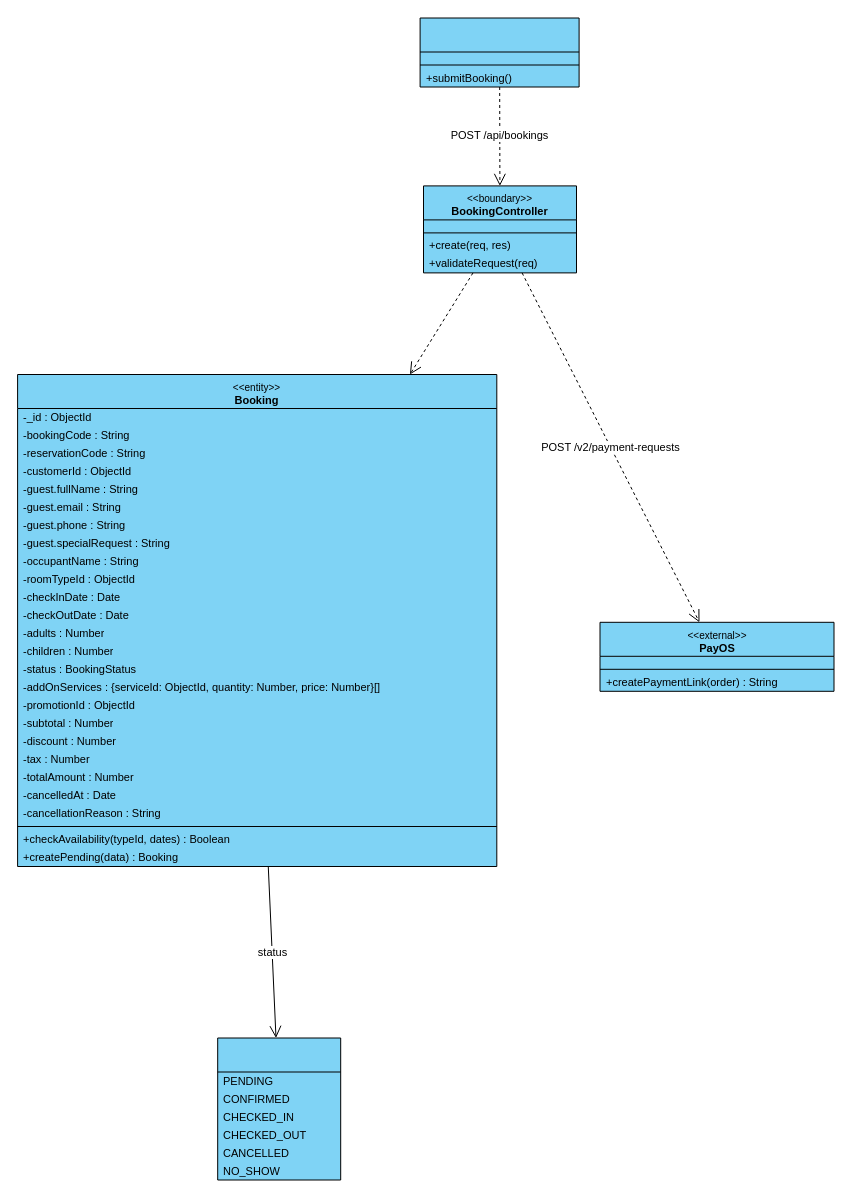
Image size: 852x1197. Some labels were removed from this diagram. Each missing label, with the box of its shape:
<<boundary>> BookingWizardPage: (419, 17, 579, 87)
<<enumeration>> BookingStatus: (217, 1037, 341, 1180)
